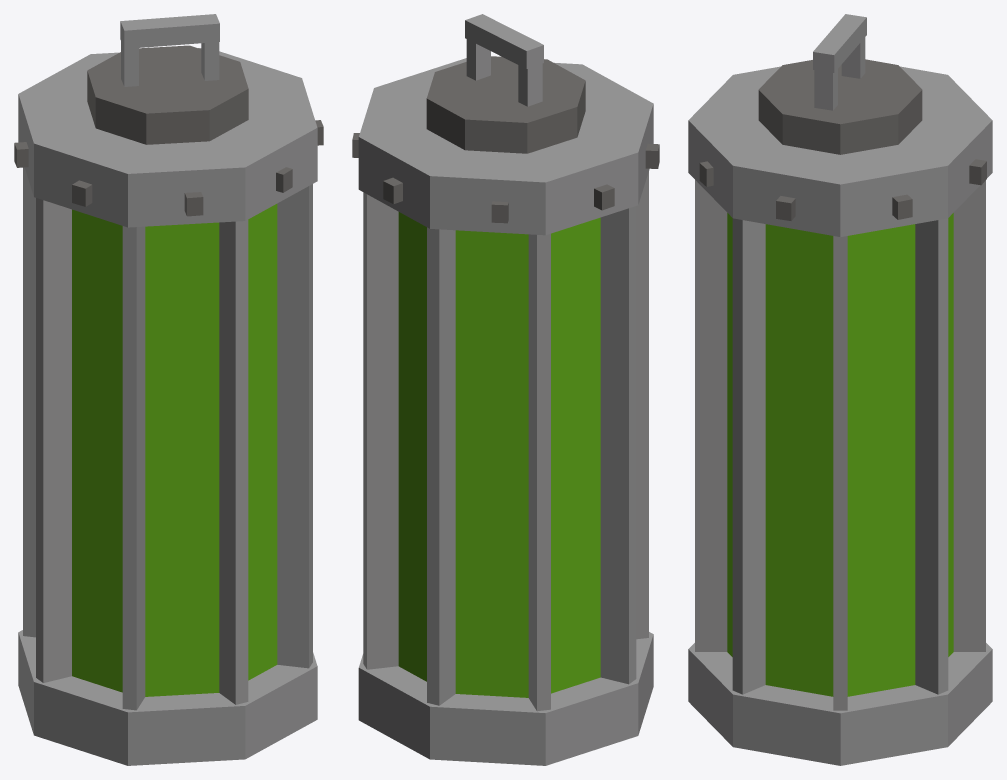
Rendered from Reactor cell.fbx.
3 views of the same model, side by side, from view 1: azimuth 30°, elevation 25°; view 2: azimuth 150°, elevation 25°; view 3: azimuth 270°, elevation 25° (orthographic).
Visible parts, largest first — view 1: PM3D_Circle3D1_77; view 2: PM3D_Circle3D1_77; view 3: PM3D_Circle3D1_77.
Part boxes in pixels (box(x1,y1,x2,y2)): PM3D_Circle3D1_77: box(14, 14, 323, 765); PM3D_Circle3D1_77: box(352, 14, 659, 765); PM3D_Circle3D1_77: box(688, 14, 992, 765).
Bounding box in the file's own units: 37.51 × 90.92 × 37.51.
